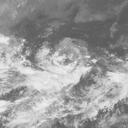cyclone: (34, 37, 90, 77)
